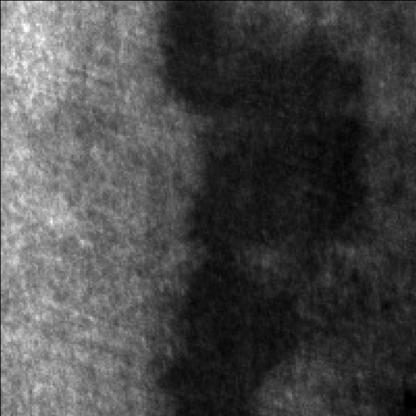patches: (164, 0, 358, 246), (164, 262, 300, 414)
